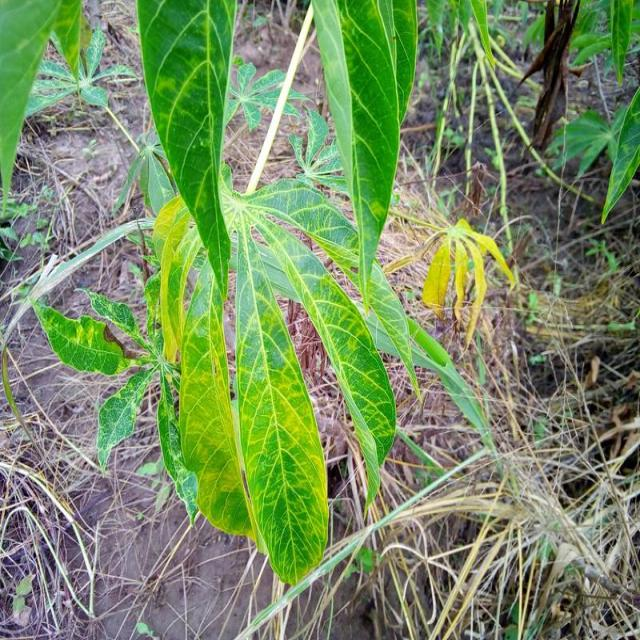cassava leaf: (234, 216, 330, 586), (311, 0, 419, 310), (136, 0, 238, 301), (178, 253, 257, 541)
